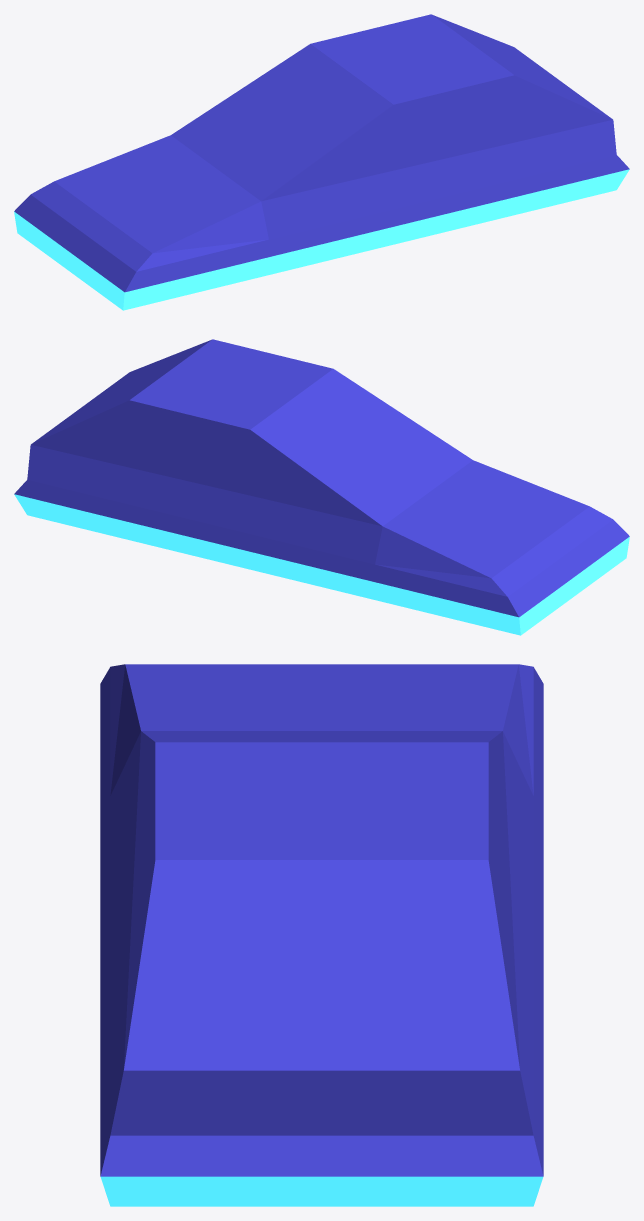
Rendered from car_blue.glb.
3 renders of one model, top to bottom at view 1: azimuth 30°, elevation 25°; view 2: azimuth 150°, elevation 25°; view 3: azimuth 270°, elevation 25°, orthographic. The views are drawn at different scales.
Visible parts, largest first — view 1: Voiture Bleu; view 2: Voiture Bleu; view 3: Voiture Bleu.
Boxes of the visible parts, bbox=[...] form: Voiture Bleu: bbox=[14, 14, 629, 310]; Voiture Bleu: bbox=[14, 339, 629, 635]; Voiture Bleu: bbox=[100, 664, 543, 1206].
Size of the model in its own units: 1.68 by 0.4352 by 0.638.
